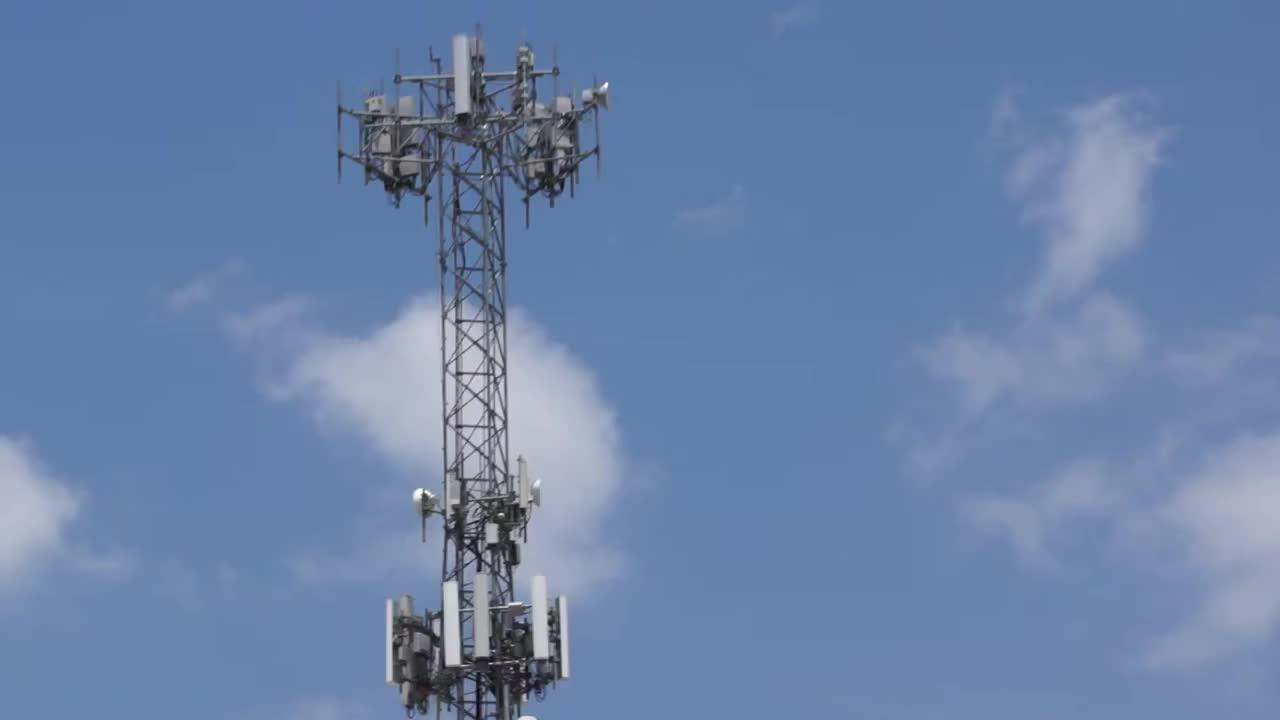Microwave Antenna: (408, 478, 442, 530), (575, 78, 621, 114), (530, 475, 546, 509)
antenna: (441, 575, 468, 675), (470, 568, 496, 667), (395, 94, 421, 181), (527, 571, 551, 663), (366, 94, 389, 177), (554, 592, 573, 684), (451, 37, 473, 115), (513, 451, 536, 510), (384, 598, 399, 687)
